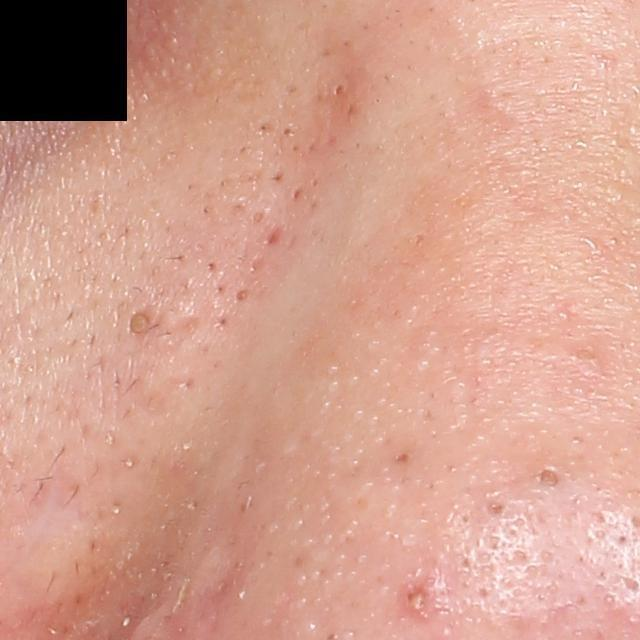comedo: (121, 301, 158, 346), (532, 462, 564, 492), (248, 207, 268, 226), (392, 449, 413, 465), (234, 285, 253, 302), (332, 82, 347, 99)
hypertrophic_scar: (9, 490, 153, 611)
pustule: (394, 570, 438, 623)
